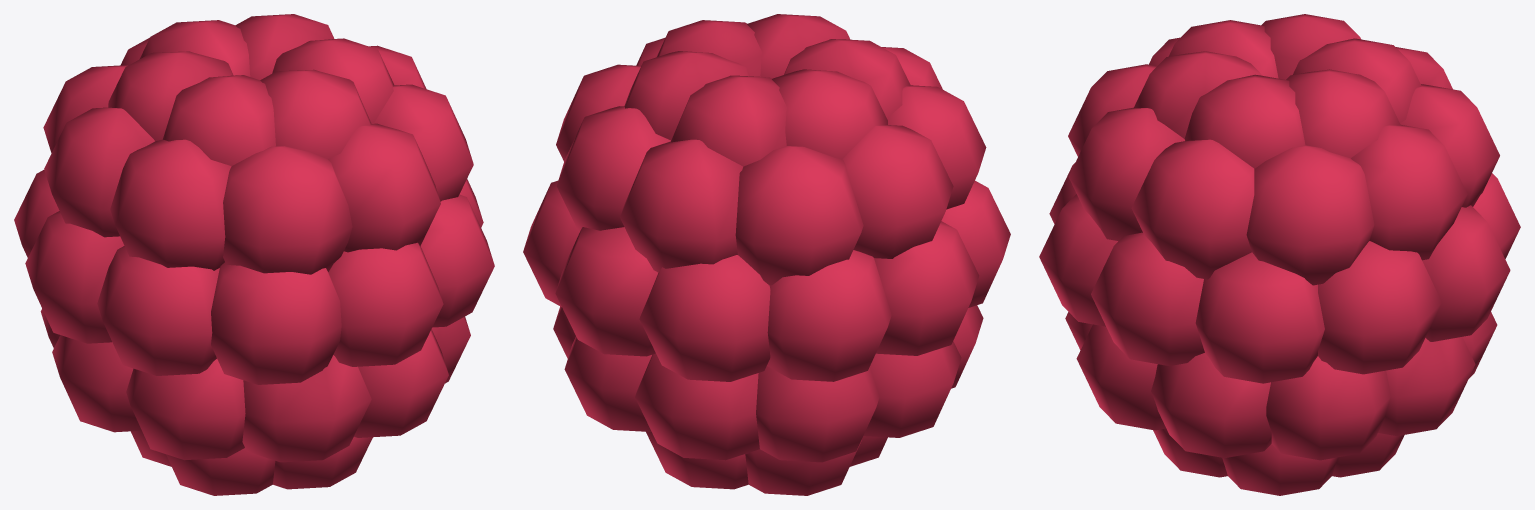
File: raspberry.glb
The picture shows the model from 3 angles, left to right: view 1: azimuth 30°, elevation 25°; view 2: azimuth 150°, elevation 25°; view 3: azimuth 270°, elevation 25°; orthographic projection.
Parts seen in each view (by area): view 1: raspberry; view 2: raspberry; view 3: raspberry.
Boxes of the visible parts, x1=… form: raspberry: x1=14, y1=14, x2=494, y2=495; raspberry: x1=523, y1=14, x2=1010, y2=495; raspberry: x1=1039, y1=14, x2=1520, y2=495.
Size of the model in its own units: 1.99 by 1.89 by 1.97.
